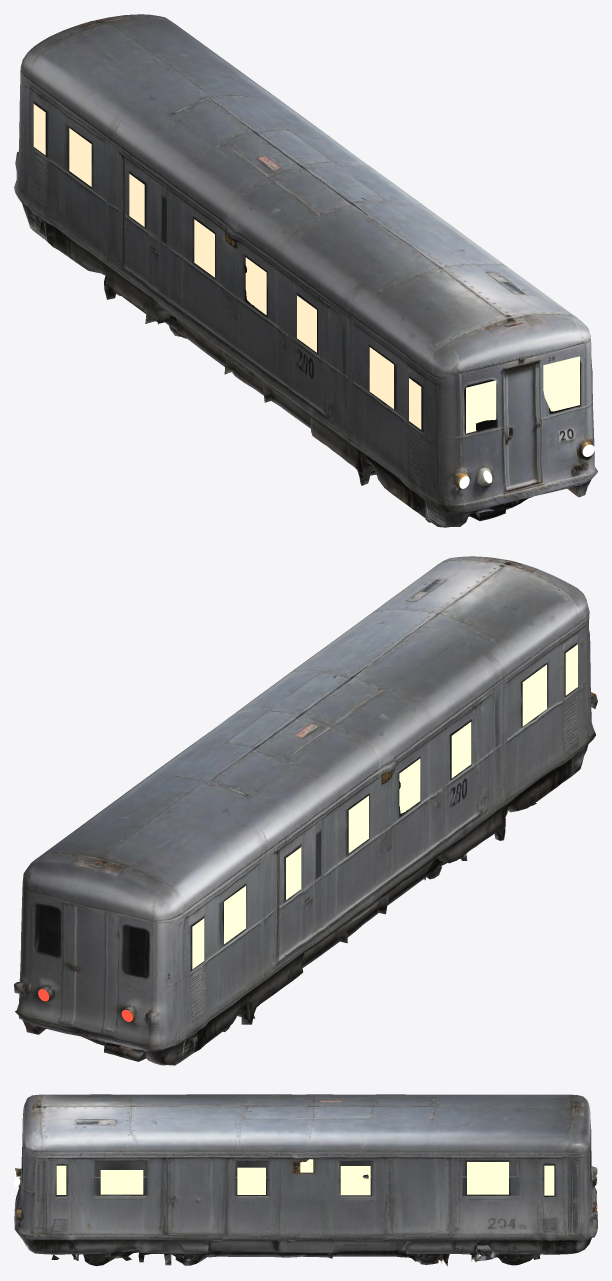
The model's file is m-silver.glb.
The picture shows the model from 3 angles, top to bottom: view 1: azimuth 30°, elevation 25°; view 2: azimuth 150°, elevation 25°; view 3: azimuth 270°, elevation 25°; orthographic projection. The views are drawn at different scales.
Parts seen in each view (by area): view 1: Mesh_0, win_glass; view 2: Mesh_0, win_glass; view 3: Mesh_0, win_glass.
Boxes of the visible parts, x1,y1,x2,y2 form: Mesh_0: (14, 14, 597, 527); win_glass: (33, 104, 579, 433); Mesh_0: (14, 556, 597, 1065); win_glass: (192, 644, 577, 969); Mesh_0: (14, 1094, 597, 1266); win_glass: (56, 1159, 554, 1195).
Bounding box in the file's own units: 0.4316 × 0.5626 × 1.99.
Materials: 4 (1 with a texture image).
